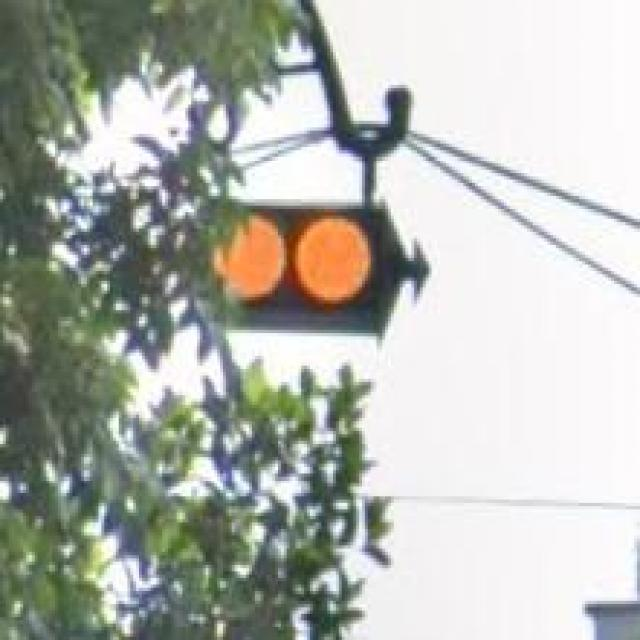yellow_light: (171, 284, 292, 480)
